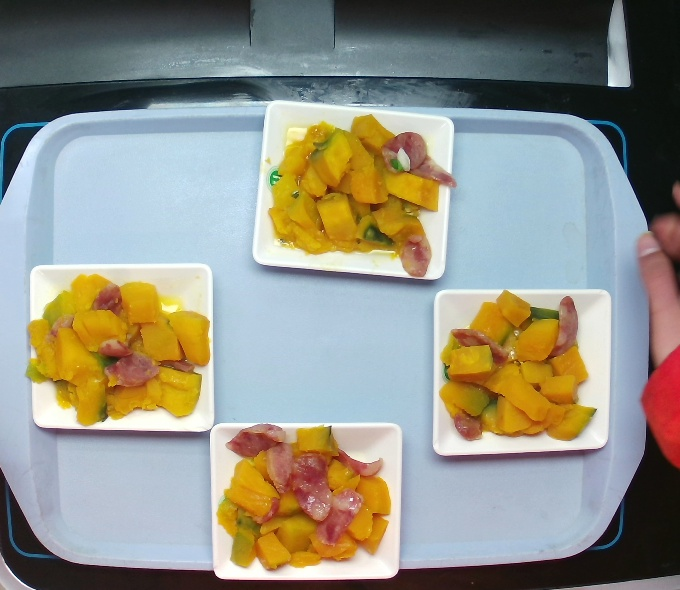wcq-NanGuaChaoXiangChang: (32, 260, 203, 446), (274, 107, 441, 285), (221, 414, 391, 578), (440, 282, 593, 457)
